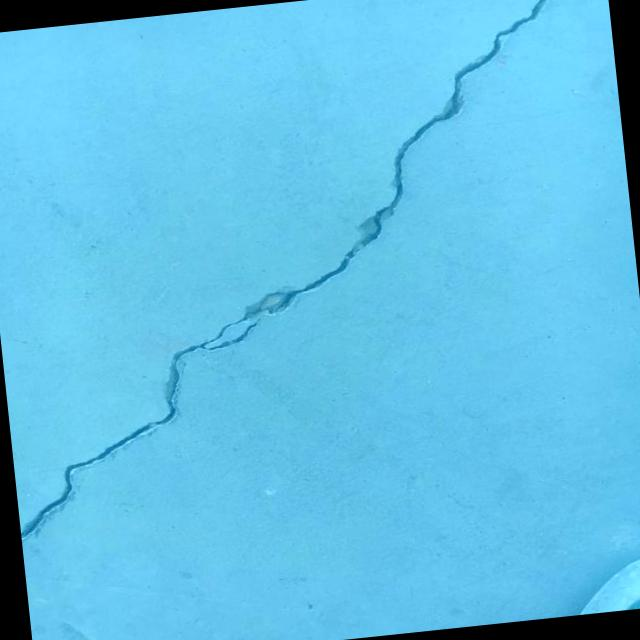crack: (0, 0, 617, 537)
